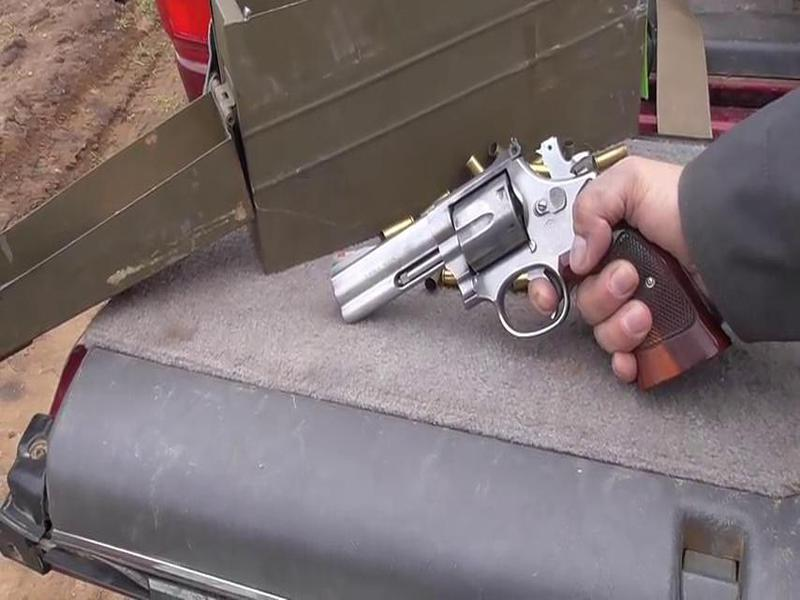Revolver: (328, 140, 736, 432)
